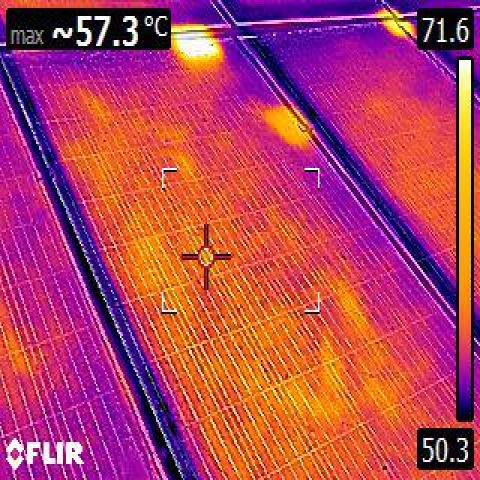fault: (178, 37, 222, 60), (277, 111, 304, 145)
